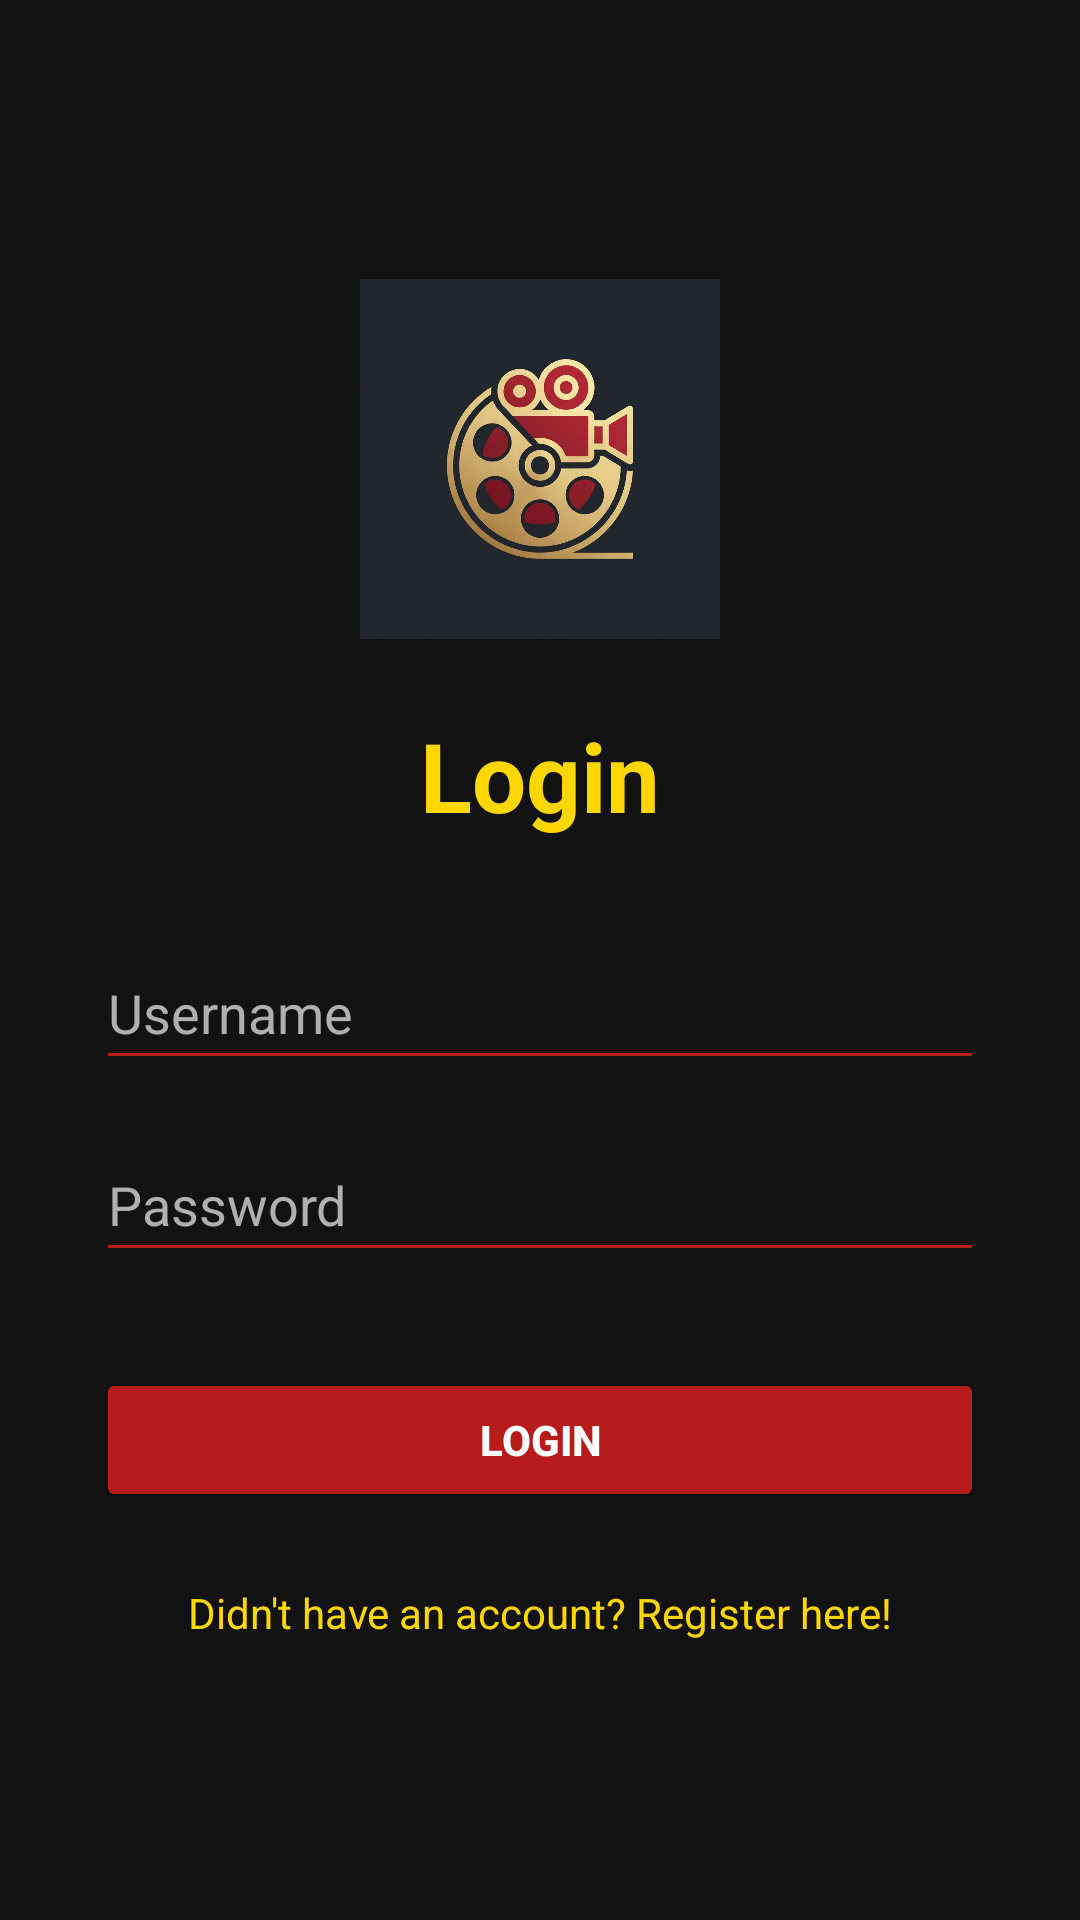

Screen size 1080×1920. Icon name, then its box in pixels as (x1, y1, x2, y2):
app: (360, 279, 720, 639)
